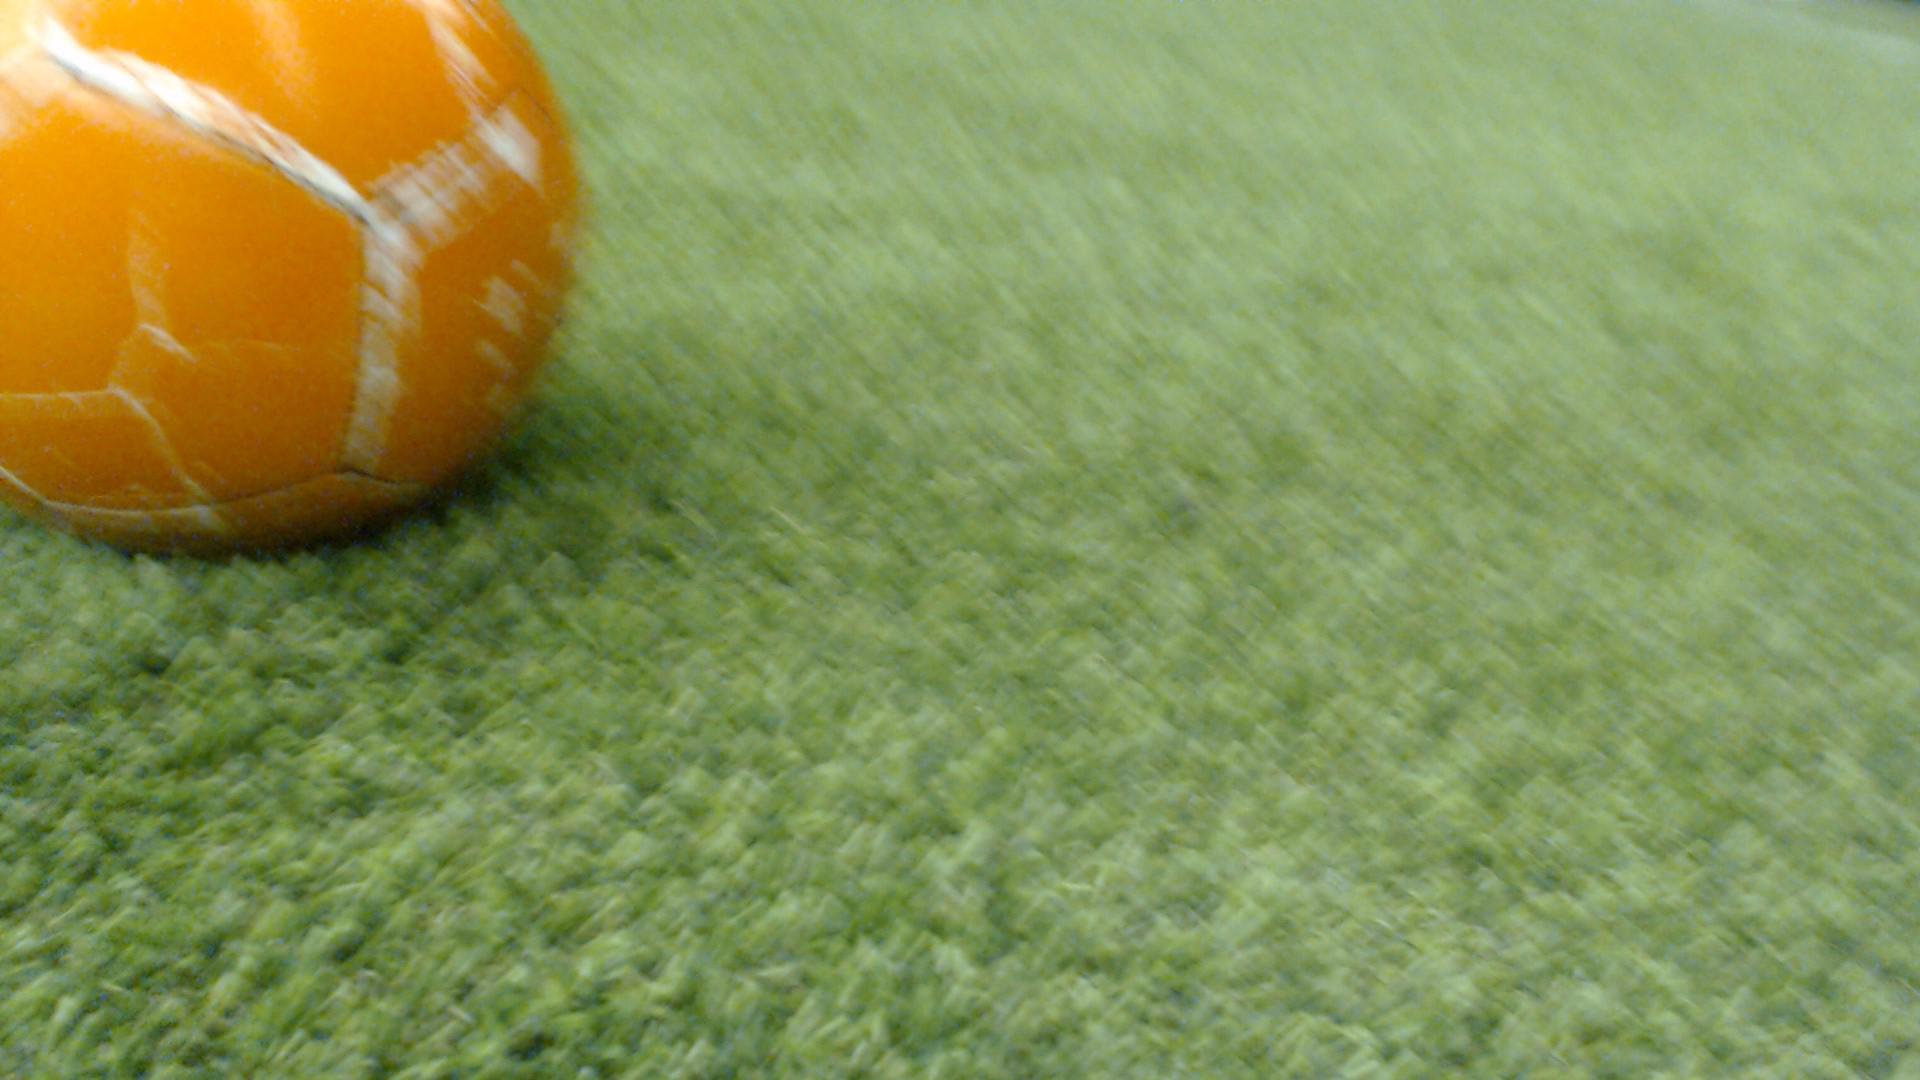bola: (0, 0, 612, 559)
